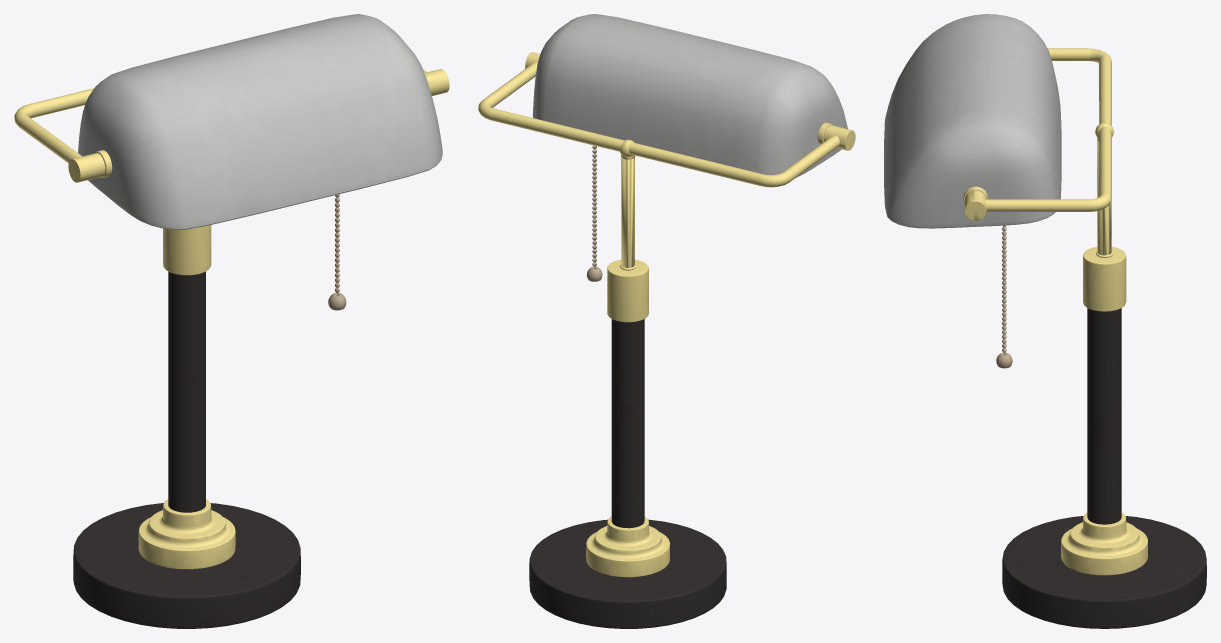
File: B07MHMSDJL.glb
3 renders of one model, left to right at view 1: azimuth 30°, elevation 25°; view 2: azimuth 150°, elevation 25°; view 3: azimuth 270°, elevation 25°, orthographic. The views are drawn at different scales.
Visible parts, largest first — view 1: RootNode; view 2: RootNode; view 3: RootNode.
Boxes of the visible parts, box(x1,y1,x2,y2) form: RootNode: box(14, 14, 449, 628); RootNode: box(478, 14, 855, 628); RootNode: box(884, 14, 1206, 628).
Bounding box in the file's own units: 0.2687 × 0.4043 × 0.2266.
1 material, 1 textured.
